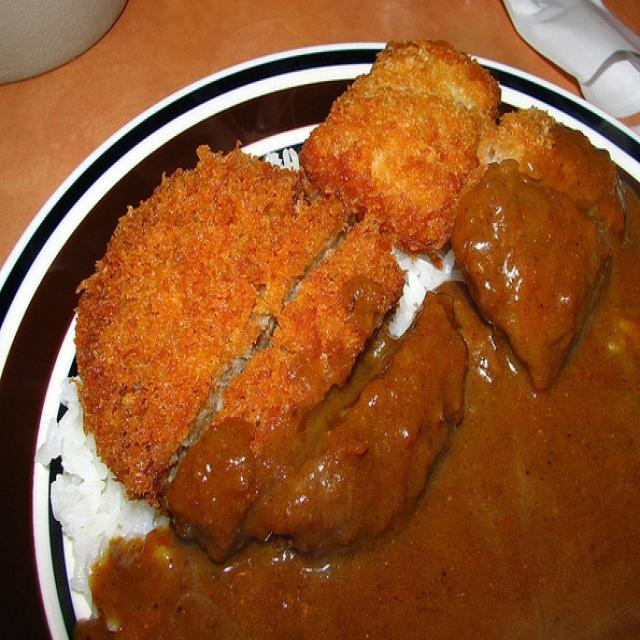炸货点心: (42, 63, 613, 594)
